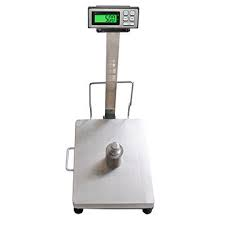Industrial Scale: (64, 4, 156, 215)
